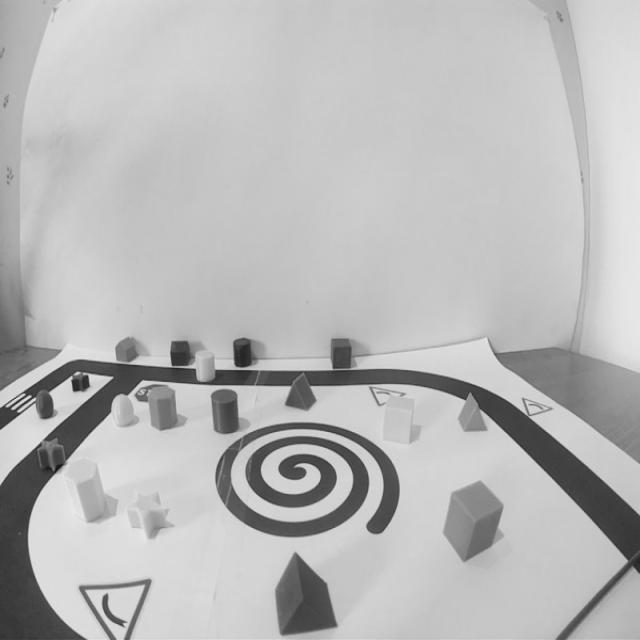ball: (109, 390, 136, 431), (32, 388, 57, 422)
cube: (441, 474, 506, 565), (380, 392, 420, 445), (328, 334, 353, 374)
cylinder: (210, 387, 243, 437), (194, 346, 217, 385), (230, 335, 254, 369)
hexagon: (61, 455, 111, 528), (146, 383, 180, 434)
home: (168, 337, 194, 370), (114, 332, 140, 364)
nest: (212, 412, 403, 542)
star: (126, 488, 176, 544), (35, 436, 68, 476), (68, 368, 90, 397)
triangle: (270, 548, 341, 639), (454, 390, 488, 438), (282, 370, 321, 410)
